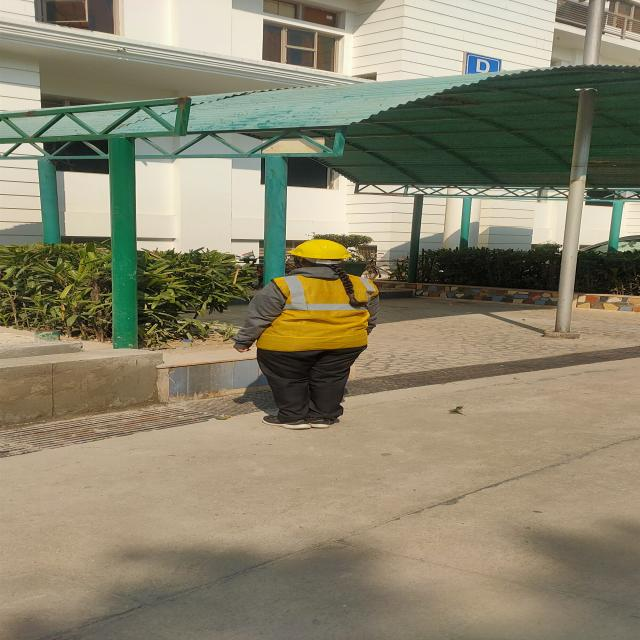safe: (251, 240, 376, 429)
